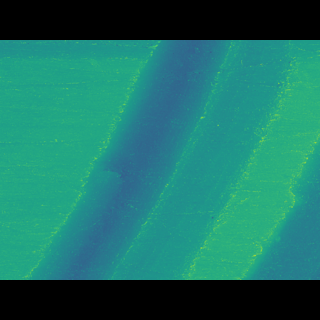Loch: (23, 69, 242, 250), (244, 142, 319, 249)
